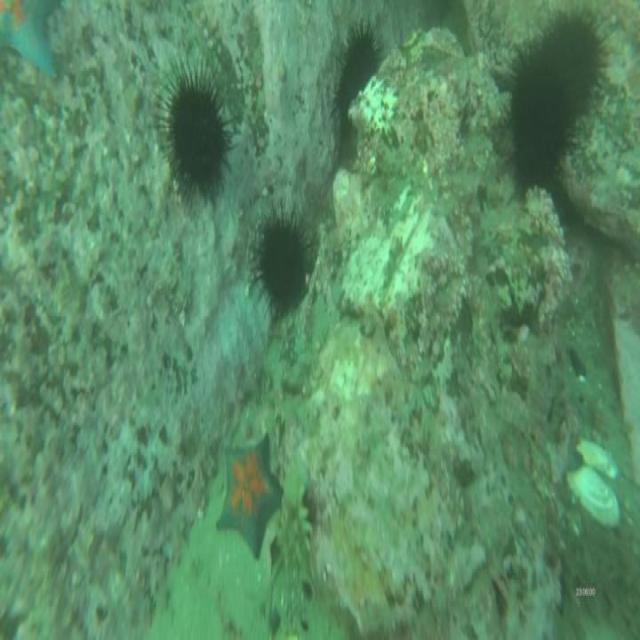echinus: (507, 32, 572, 196), (167, 71, 230, 206), (546, 6, 608, 125), (332, 24, 382, 144), (254, 208, 308, 313)
scallop: (568, 433, 624, 534)
starfish: (218, 431, 287, 558), (0, 0, 63, 92)
